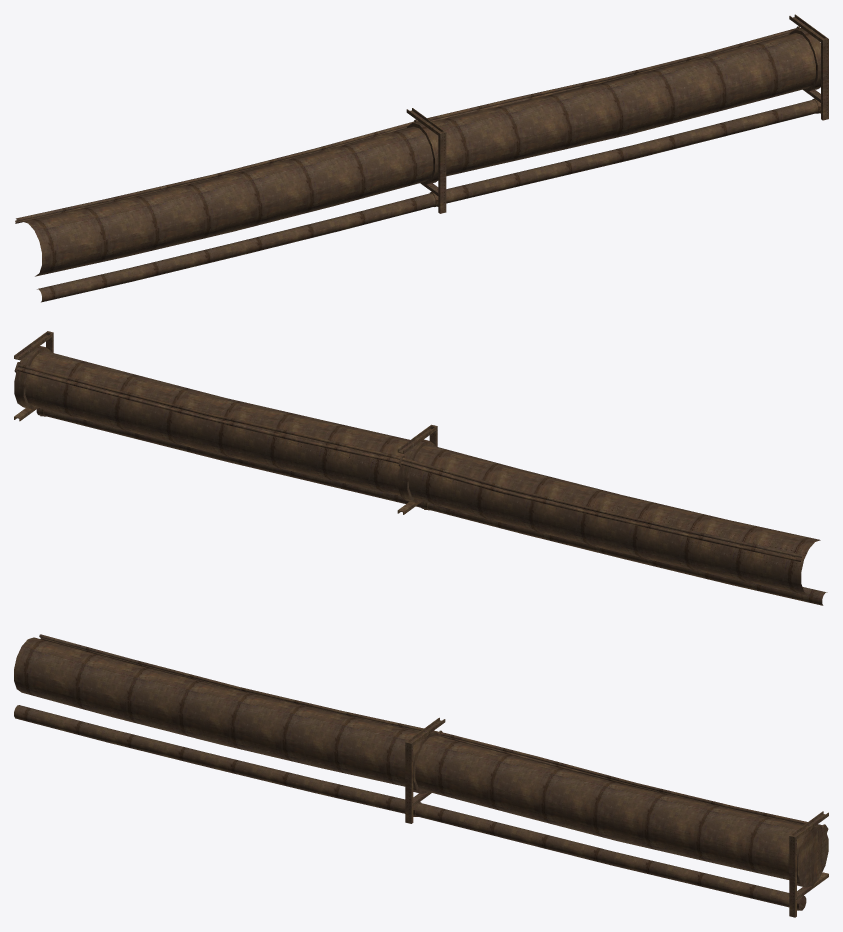
The model's file is pipeset32d_512_001a.glb.
3 renders of one model, top to bottom at view 1: azimuth 30°, elevation 25°; view 2: azimuth 150°, elevation 25°; view 3: azimuth 330°, elevation 25°, orthographic.
Visible parts, largest first — view 1: 0_pipeset_metal; view 2: 0_pipeset_metal; view 3: 0_pipeset_metal.
Part boxes in pixels (x1=…): 0_pipeset_metal: x1=15, y1=14, x2=828, y2=302; 0_pipeset_metal: x1=14, y1=331, x2=827, y2=605; 0_pipeset_metal: x1=14, y1=634, x2=828, y2=917.
Bounding box in the file's own units: 13 × 1.27 × 0.9654.
1 material, 1 textured.
